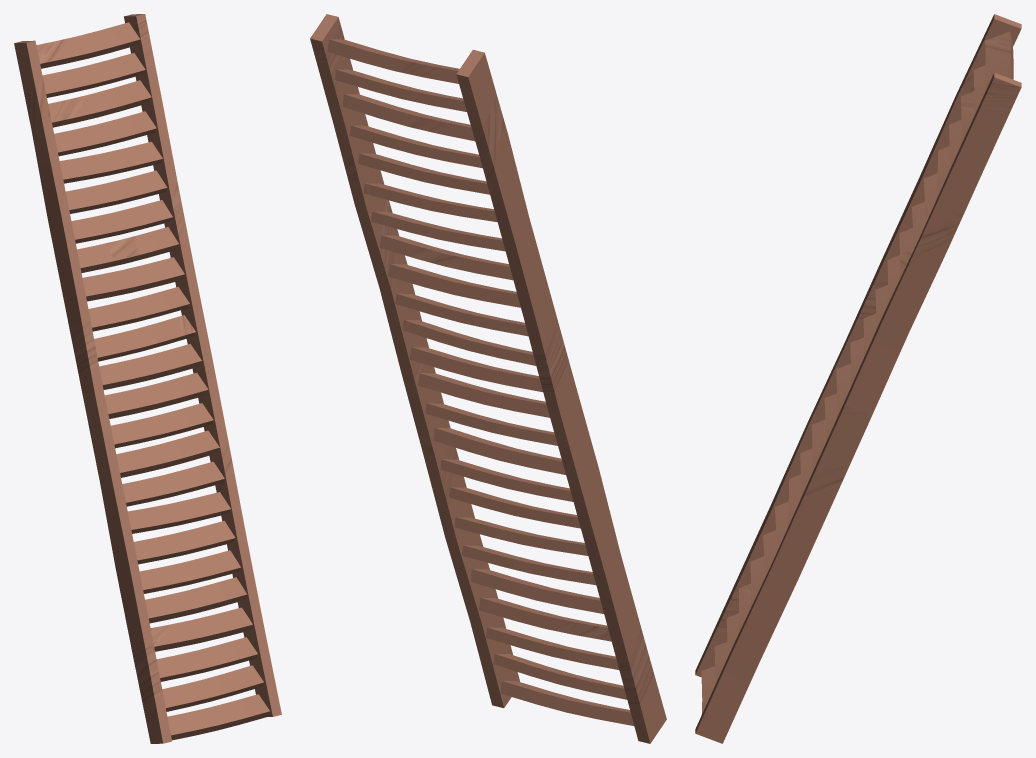
The model's file is wooden_stairs.fbx.
3 views of the same model, side by side, from view 1: azimuth 30°, elevation 25°; view 2: azimuth 150°, elevation 25°; view 3: azimuth 270°, elevation 25° (orthographic). The views are drawn at different scales.
Visible parts, largest first — view 1: Wooden_Stairs_004; view 2: Wooden_Stairs_004; view 3: Wooden_Stairs_004.
Part boxes in pixels (left/top/right/bottom): Wooden_Stairs_004: left=14, top=14, right=281, bottom=743; Wooden_Stairs_004: left=310, top=14, right=666, bottom=743; Wooden_Stairs_004: left=695, top=14, right=1021, bottom=743.
Bounding box in the file's own units: 109 × 531 × 235.
